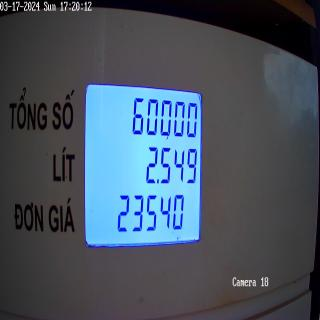screen: (81, 75, 206, 251)
